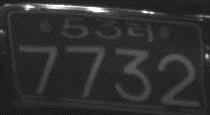2: (157, 52, 199, 107)
3: (113, 46, 152, 103), (94, 16, 123, 39)
5: (60, 15, 88, 38)
7: (63, 45, 107, 98), (18, 44, 58, 94)
러: (125, 19, 153, 42)
